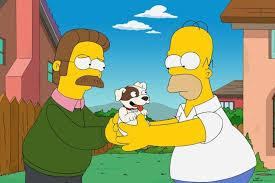Homer: (152, 16, 259, 183)
